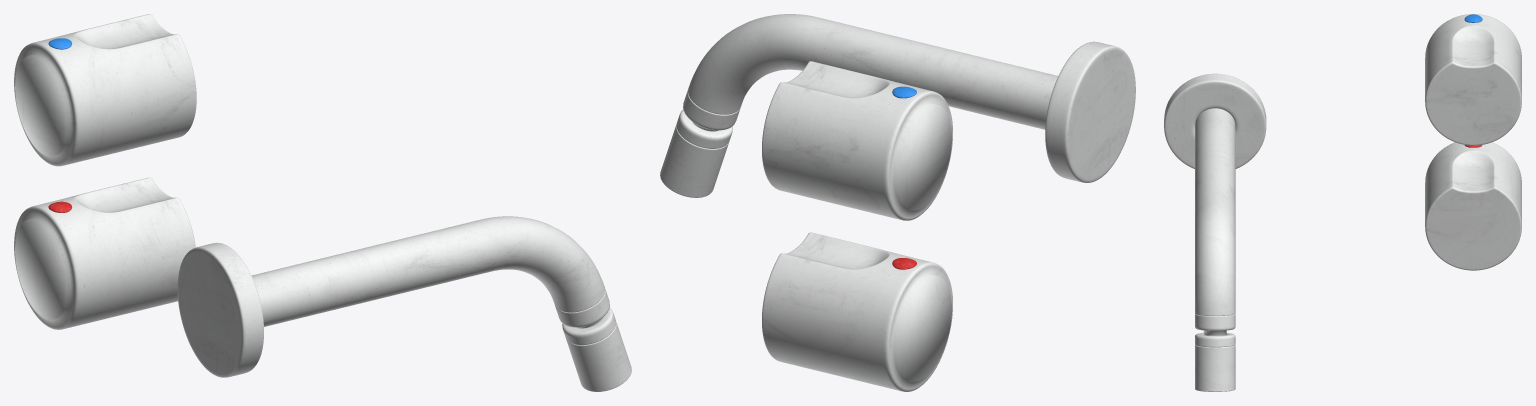
The model's file is roca_element_wall-_mounted_3-_hole_bidet_mixer.glb.
3 renders of one model, left to right at view 1: azimuth 30°, elevation 25°; view 2: azimuth 150°, elevation 25°; view 3: azimuth 270°, elevation 25°, orthographic. The views are drawn at different scales.
Visible parts, largest first — view 1: Roca Element Wall-Mounted 3-Hole Bidet Mixer; view 2: Roca Element Wall-Mounted 3-Hole Bidet Mixer; view 3: Roca Element Wall-Mounted 3-Hole Bidet Mixer.
Part boxes in pixels (bbox=[...]): Roca Element Wall-Mounted 3-Hole Bidet Mixer: bbox=[14, 14, 631, 391]; Roca Element Wall-Mounted 3-Hole Bidet Mixer: bbox=[660, 14, 1135, 391]; Roca Element Wall-Mounted 3-Hole Bidet Mixer: bbox=[1164, 14, 1521, 391].
Bounding box in the file's own units: 0.214 × 0.1521 × 0.2075.
Materials: 1 (1 with a texture image).
